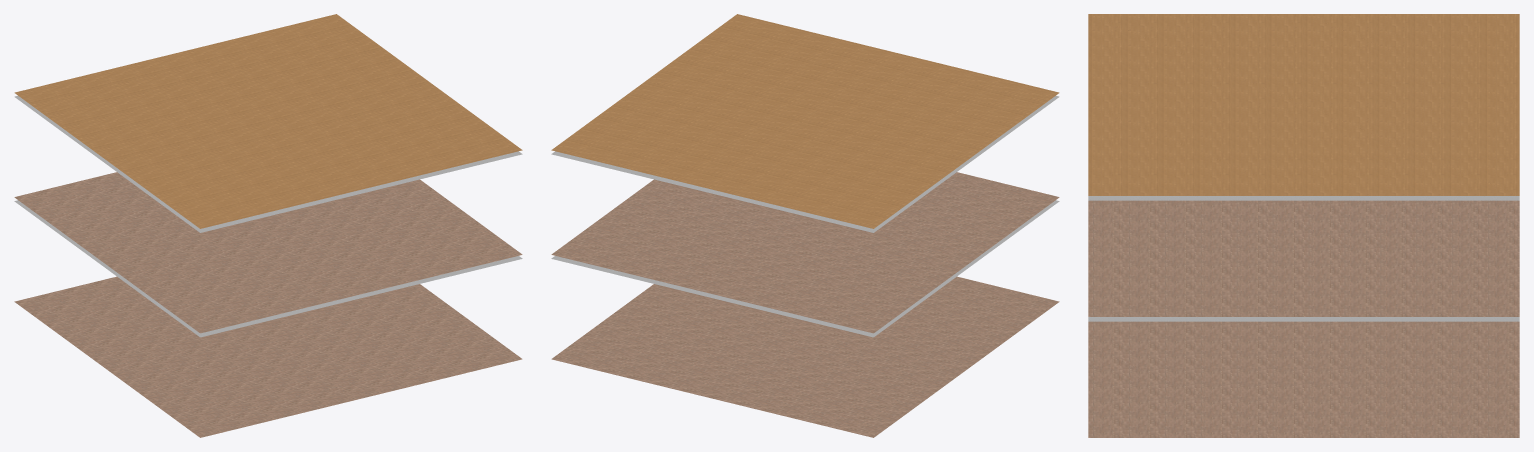
File: SM_Floor_1-2-Attic_1200.fbx
3 views of the same model, side by side, from view 1: azimuth 30°, elevation 25°; view 2: azimuth 150°, elevation 25°; view 3: azimuth 270°, elevation 25° (orthographic). The views are drawn at different scales.
Parts seen in each view (by area): view 1: SM_Floor_1-2-Attic_1200; view 2: SM_Floor_1-2-Attic_1200; view 3: SM_Floor_1-2-Attic_1200.
Boxes of the visible parts, x1,y1,x2,y2 form: SM_Floor_1-2-Attic_1200: [14, 14, 522, 437]; SM_Floor_1-2-Attic_1200: [551, 14, 1059, 437]; SM_Floor_1-2-Attic_1200: [1088, 14, 1519, 437].
Bounding box in the file's own units: 840 × 840 × 520.
Materials: 3 (3 with a texture image).
